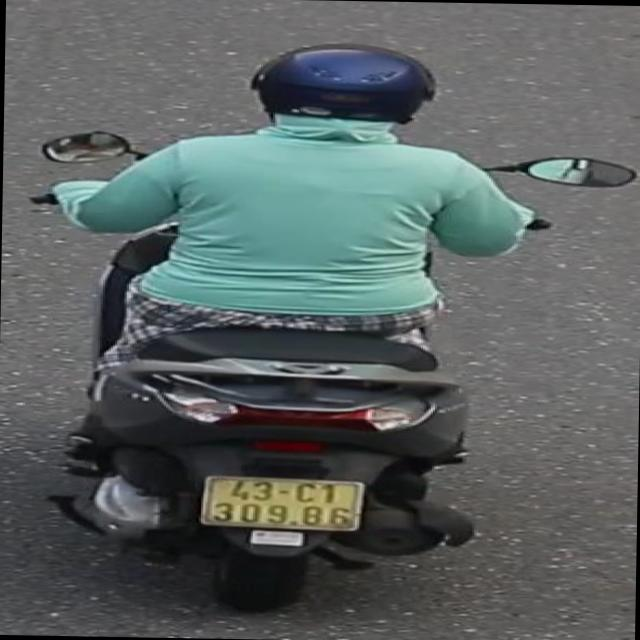LP: (194, 471, 373, 534)
helmet: (248, 35, 443, 148)
